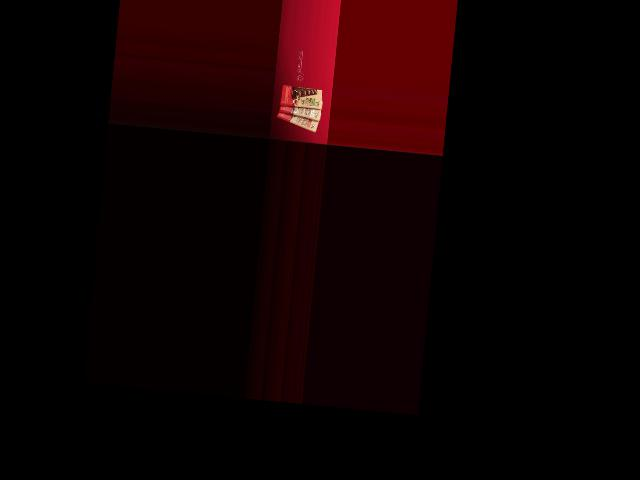chocolate: (274, 107, 322, 132)
